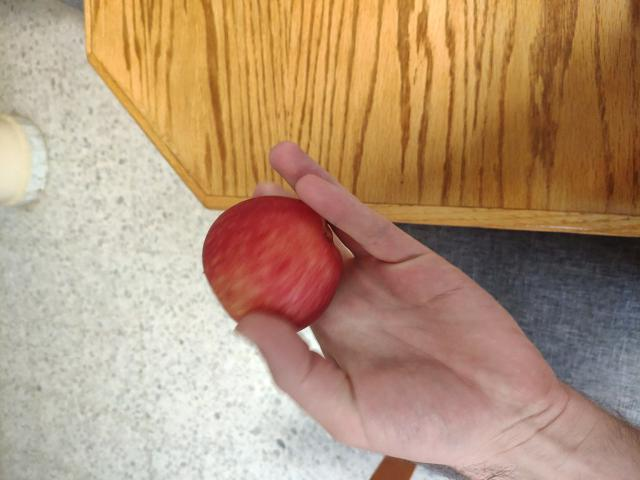apple: (202, 194, 349, 332)
